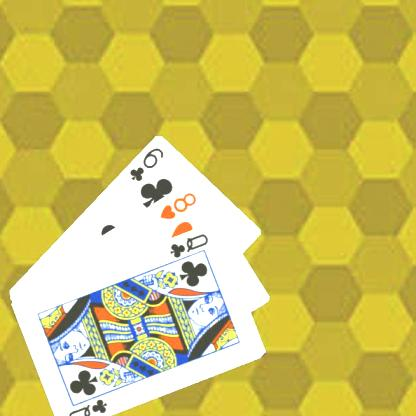6C: (126, 144, 166, 182)
8H: (156, 189, 198, 221)
QC: (167, 230, 210, 259), (65, 395, 108, 416)
